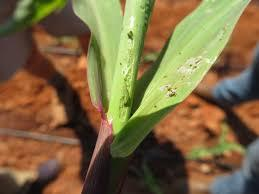fallarmy_worm: (165, 84, 175, 98)
